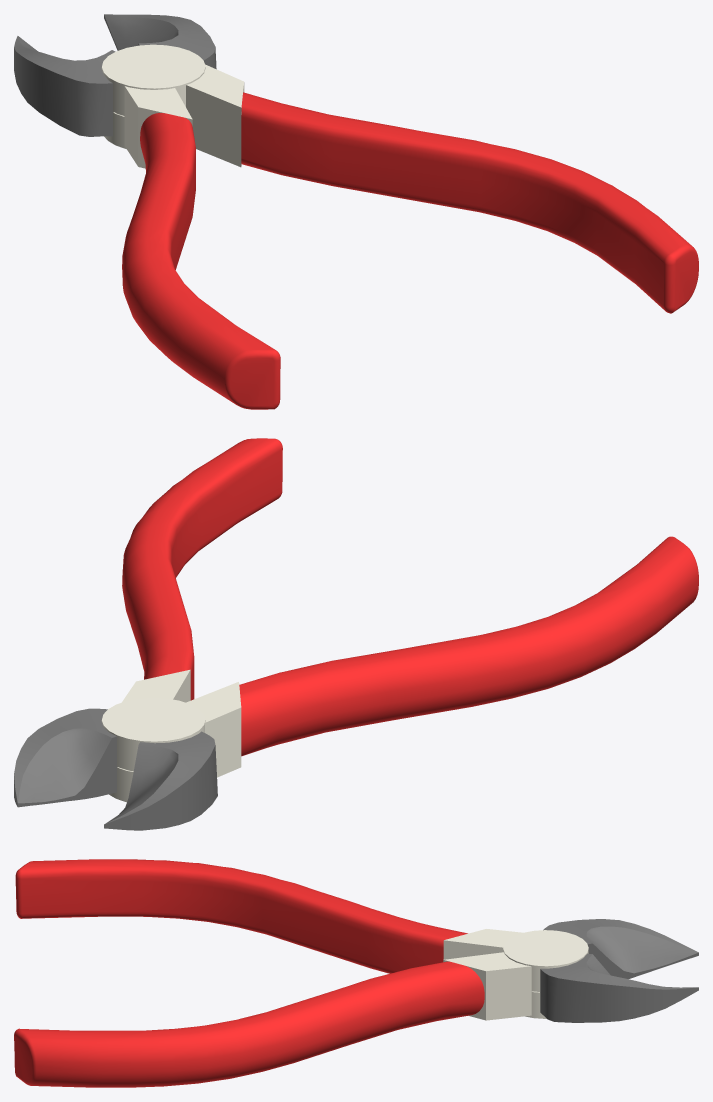
Rendered from nipper.fbx.
3 renders of one model, top to bottom at view 1: azimuth 30°, elevation 25°; view 2: azimuth 150°, elevation 25°; view 3: azimuth 270°, elevation 25°, orthographic. The views are drawn at different scales.
Visible parts, largest first — view 1: long_nose_plier_R, nipper; view 2: nipper, long_nose_plier_R; view 3: long_nose_plier_R, nipper.
Part boxes in pixels (x1,y1,x2,y2): long_nose_plier_R: (14, 36, 698, 313); nipper: (104, 14, 280, 409); nipper: (14, 536, 698, 807); long_nose_plier_R: (101, 438, 282, 830); long_nose_plier_R: (14, 919, 698, 1087); nipper: (15, 859, 698, 1022).
Size of the model in its own units: 6.65 by 0.8442 by 9.95.
